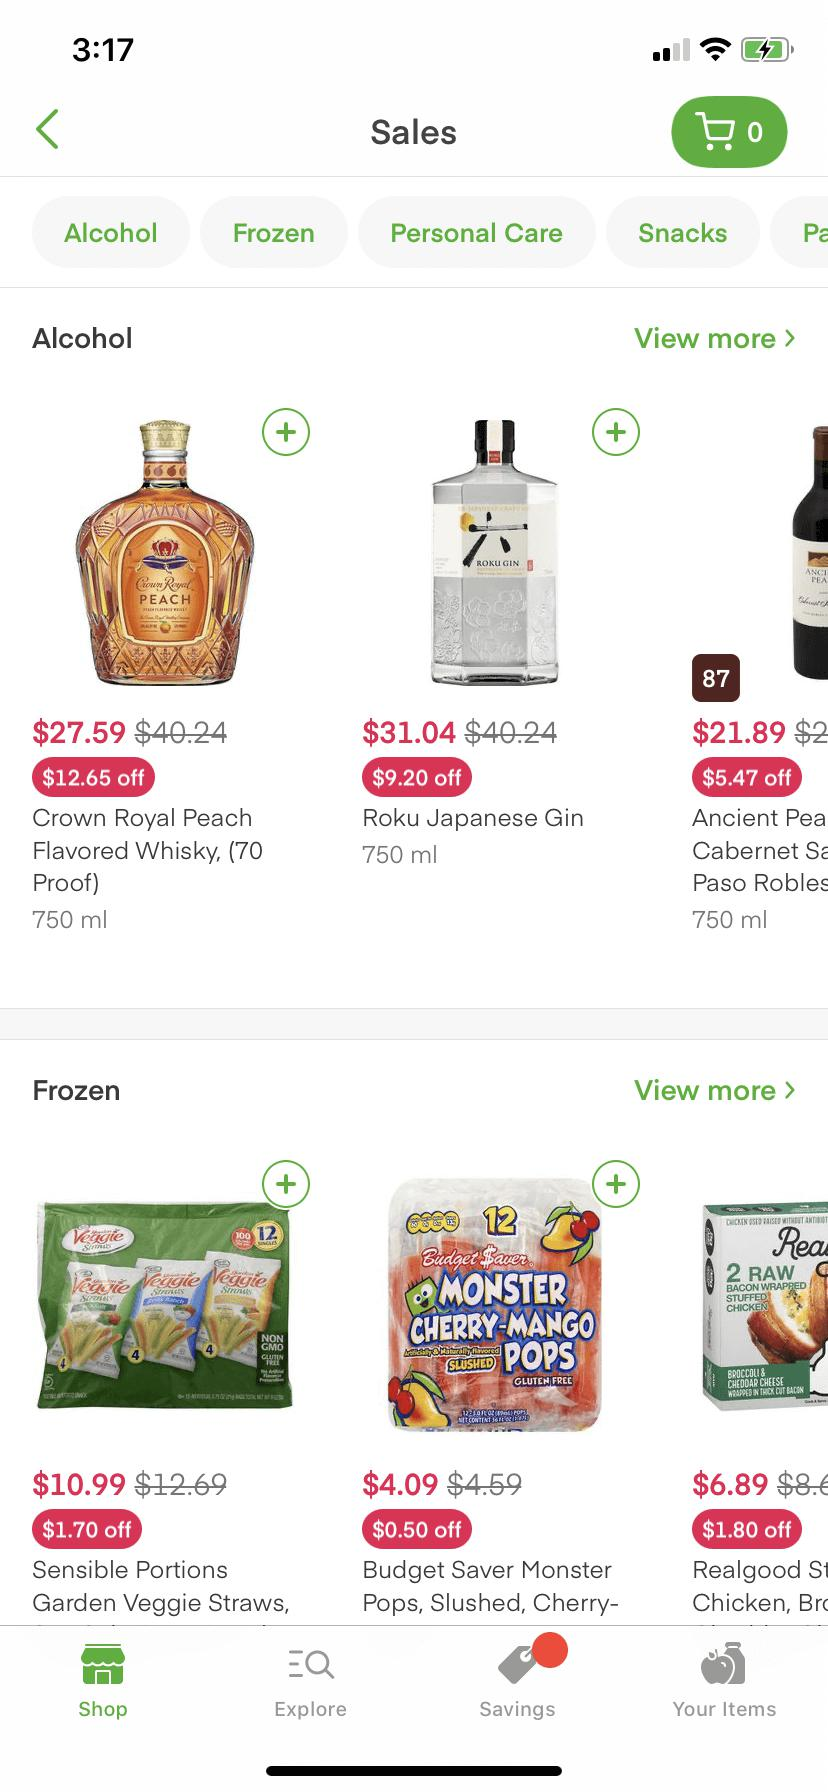Buttons: (606, 297, 809, 375), (604, 1054, 813, 1122), (659, 93, 791, 173), (580, 395, 652, 463), (250, 399, 319, 463), (587, 1146, 648, 1213), (254, 1150, 315, 1213)
